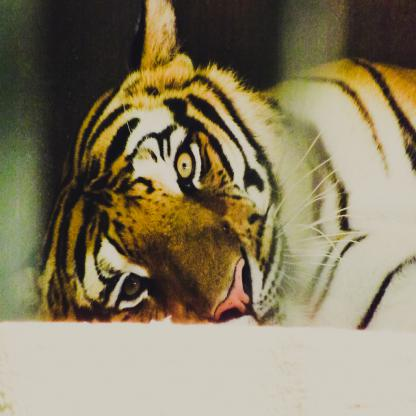Tiger: (37, 0, 416, 328)
